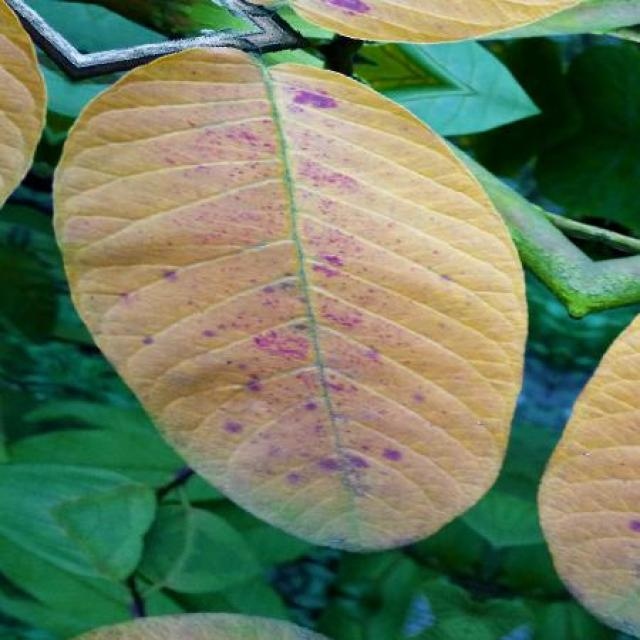Red Rust: (55, 49, 526, 549), (539, 315, 640, 637), (289, 1, 578, 42)
